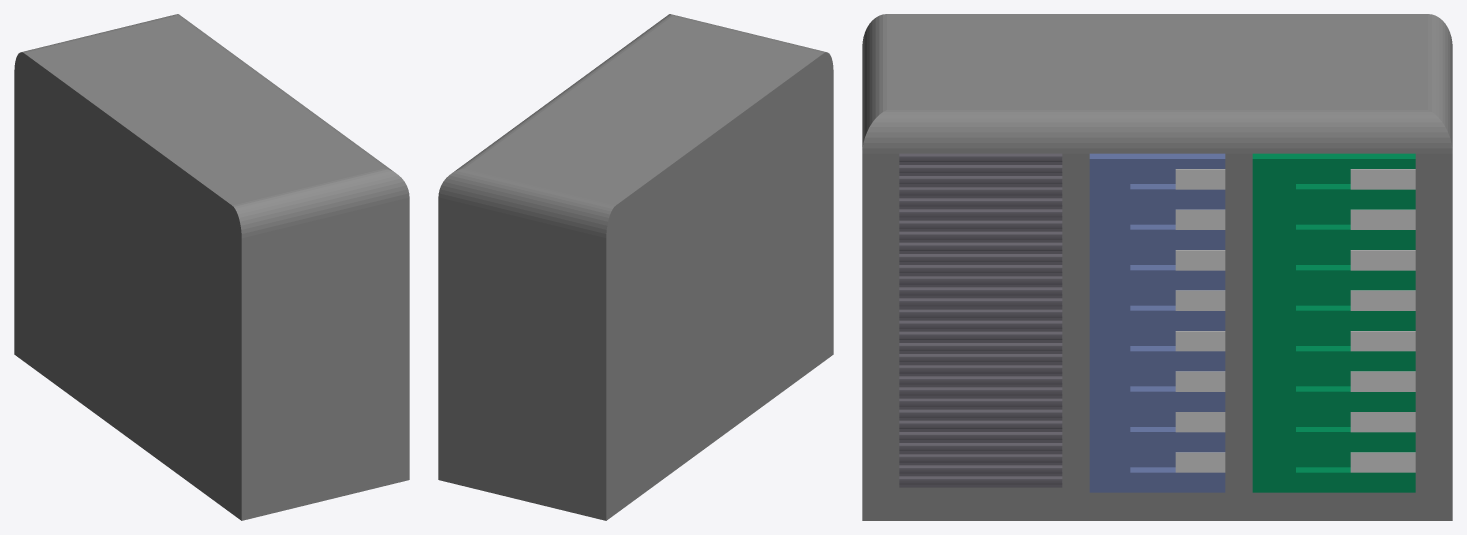
The model's file is placard.fbx.
3 views of the same model, side by side, from view 1: azimuth 30°, elevation 25°; view 2: azimuth 150°, elevation 25°; view 3: azimuth 270°, elevation 25° (orthographic). The views are drawn at different scales.
Visible parts, largest first — view 1: placard; view 2: placard; view 3: placard, porte1, porte3, porte2, etiquette3, etiquette2.
Part boxes in pixels (x1=…): placard: x1=14, y1=14, x2=409, y2=520; placard: x1=438, y1=14, x2=833, y2=520; placard: x1=862, y1=14, x2=1452, y2=520; porte1: x1=899, y1=153, x2=1062, y2=487; porte3: x1=1252, y1=153, x2=1415, y2=492; porte2: x1=1089, y1=153, x2=1225, y2=492; etiquette3: x1=1350, y1=169, x2=1415, y2=472; etiquette2: x1=1175, y1=169, x2=1225, y2=472.
Bounding box in the file's own units: 430 × 719 × 960.
